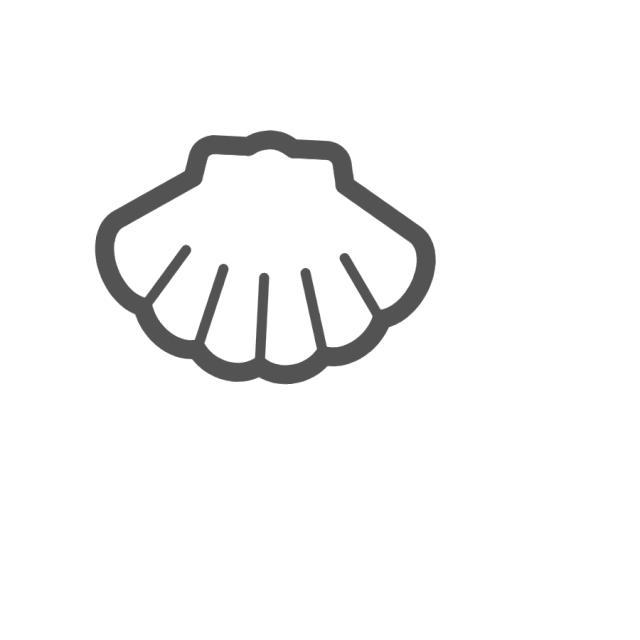shell: (88, 123, 442, 393)
